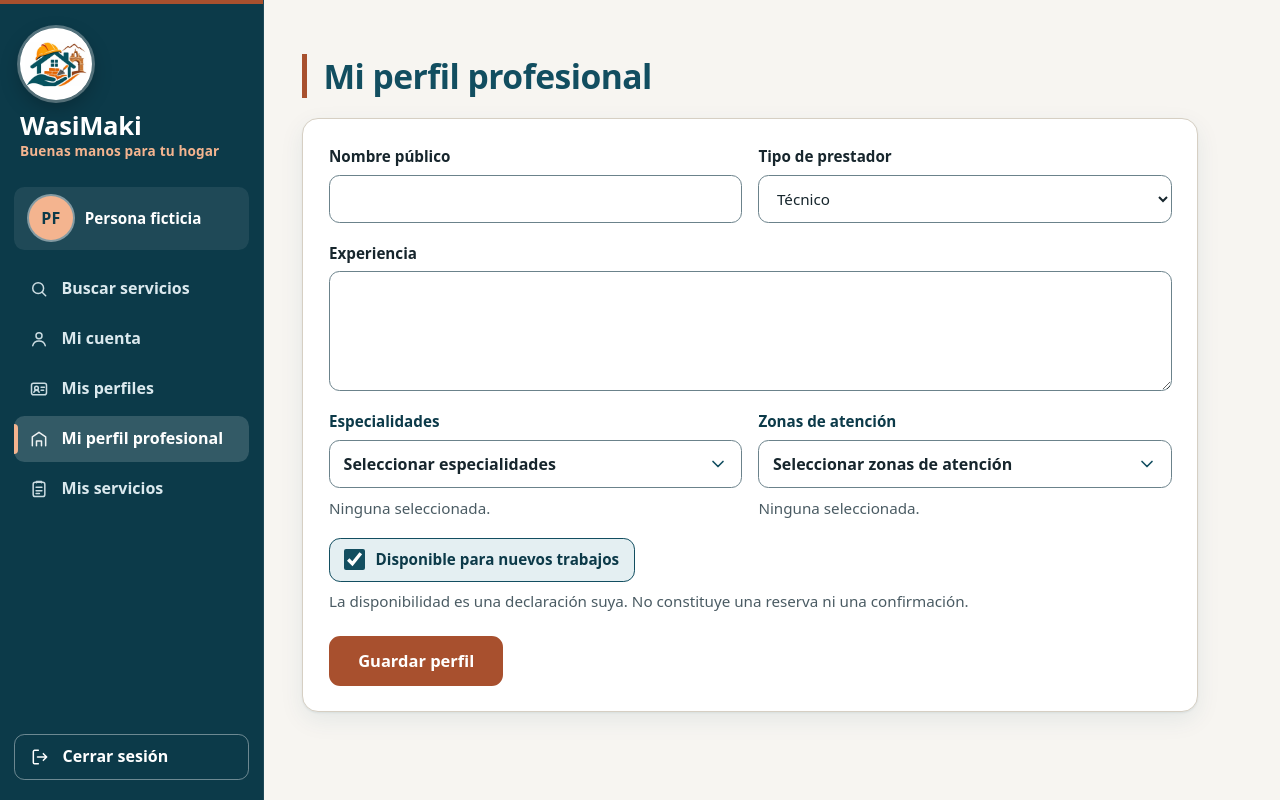
Test: el perfil profesional ofrece las categorías activas como especialidades y usa la sesión existente
What coordinates should you click on to do the following:
click the button "Seleccionar especialidades"
I would click on:
 (536, 464)
Its box is x1=329 y1=440 x2=742 y2=488.
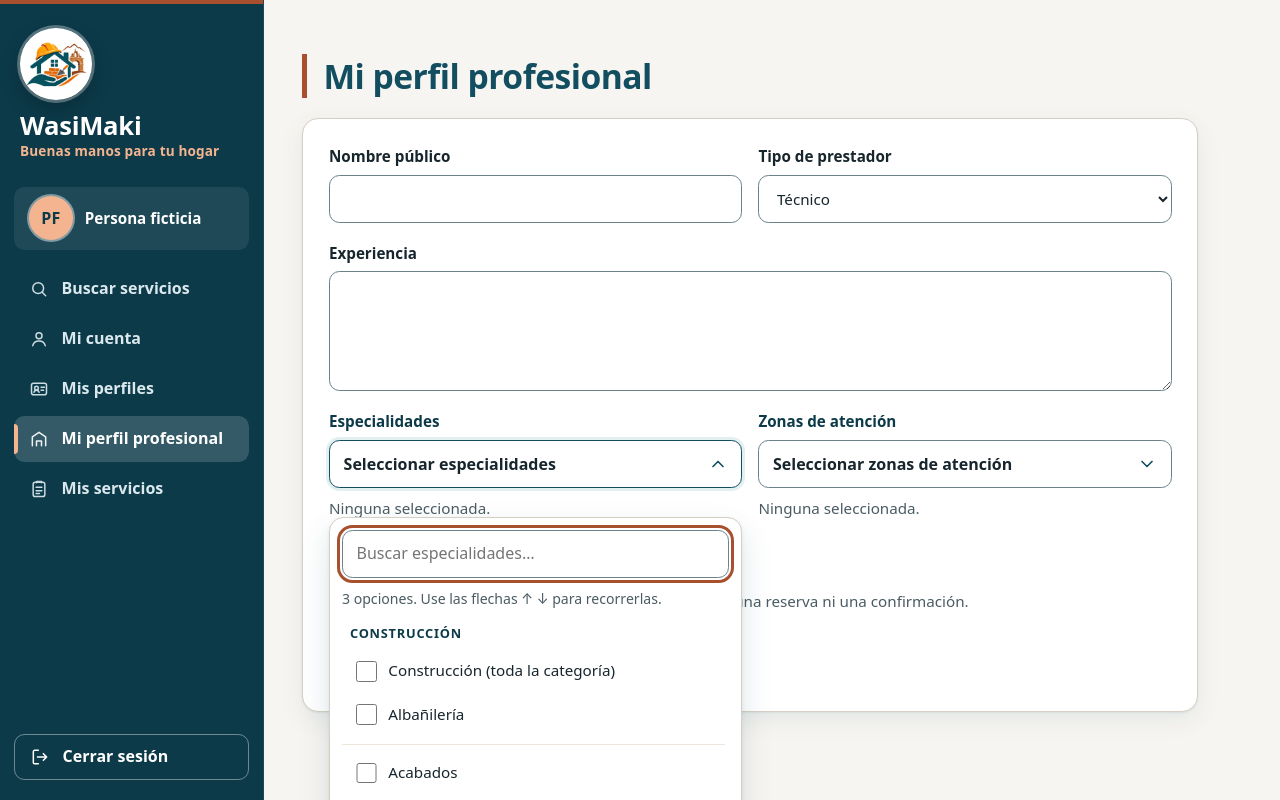
Result: the element "Construcción" is shown at x1=350 y1=624 x2=615 y2=725
